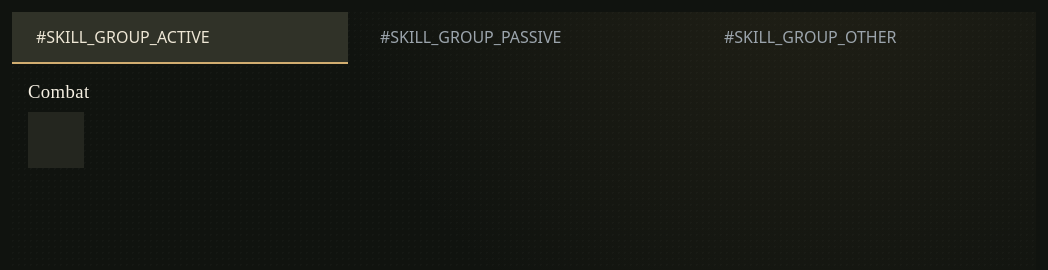
Test: SkillListWindowContent › changes group panels without changing catalog identity
The width and height of the screenshot is (1048, 270).
Step 1. Click the tab "#SKILL_GROUP_PASSIVE" → (524, 38), box [356, 12, 692, 64]
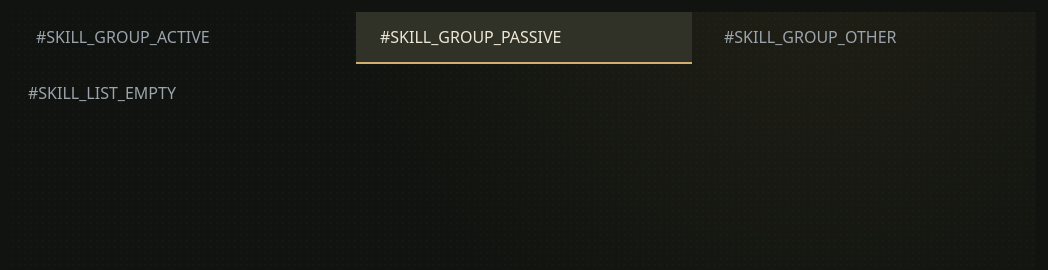
Result: the panel reads "#SKILL_LIST_EMPTY" at [28, 82, 176, 104]
